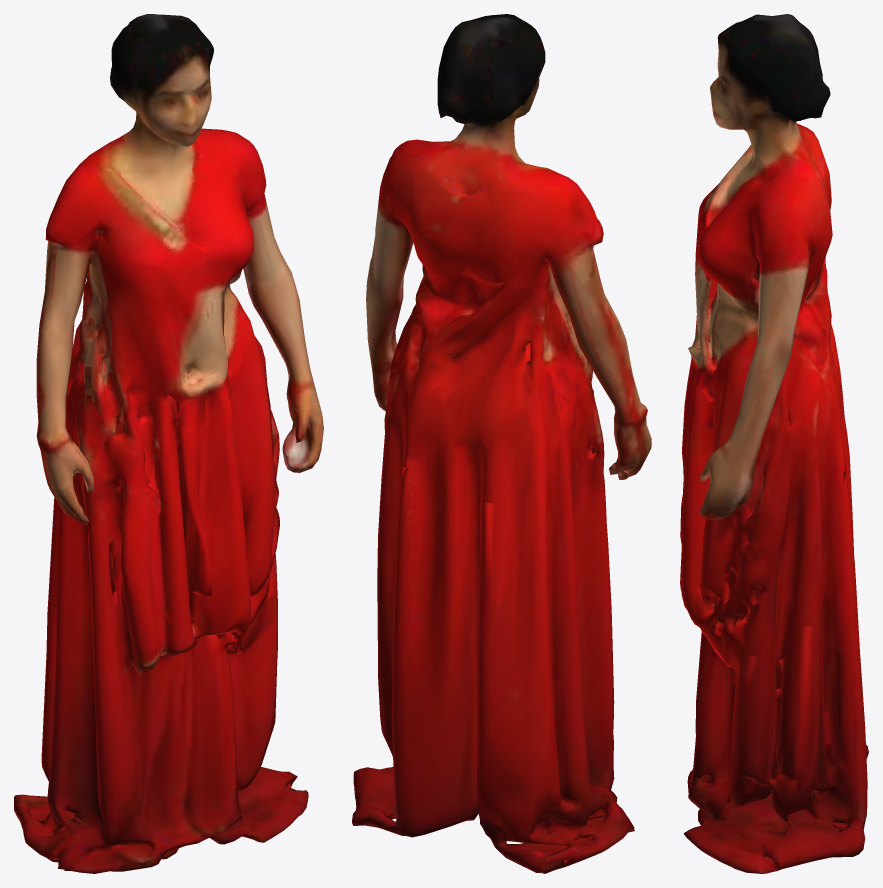
File: bd_w_saree_red.glb
The picture shows the model from 3 angles, left to right: view 1: azimuth 30°, elevation 25°; view 2: azimuth 150°, elevation 25°; view 3: azimuth 270°, elevation 25°; orthographic projection. The views are drawn at different scales.
Visible parts, largest first — view 1: Mesh_0_Material_0_0; view 2: Mesh_0_Material_0_0; view 3: Mesh_0_Material_0_0.
Boxes of the visible parts, left/top/right/bottom form: Mesh_0_Material_0_0: left=14, top=14, right=323, bottom=873; Mesh_0_Material_0_0: left=352, top=14, right=651, bottom=873; Mesh_0_Material_0_0: left=680, top=14, right=868, bottom=873.
Size of the model in its own units: 0.719 by 2 by 0.4321.
1 material, 1 textured.
